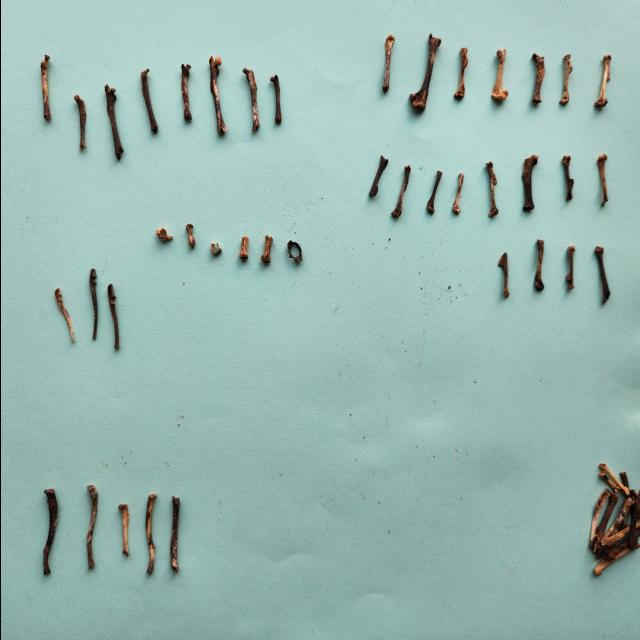fossil: (404, 31, 442, 121), (202, 50, 230, 138), (590, 534, 640, 580), (38, 485, 62, 579), (101, 78, 126, 166), (163, 489, 186, 579), (591, 488, 619, 556), (135, 64, 161, 137), (139, 488, 159, 578), (241, 63, 265, 138), (588, 240, 614, 308), (82, 477, 100, 574), (33, 48, 55, 126), (584, 485, 610, 551), (516, 147, 540, 217), (590, 52, 616, 116), (53, 282, 77, 346), (388, 160, 412, 224), (102, 277, 122, 353), (364, 149, 392, 202), (598, 528, 640, 563), (174, 56, 194, 128), (527, 46, 549, 110), (555, 49, 577, 112), (488, 44, 510, 106), (71, 89, 91, 157), (481, 158, 502, 222), (451, 41, 472, 105), (597, 519, 640, 550), (556, 150, 578, 210), (528, 230, 548, 296), (86, 262, 102, 344), (114, 497, 134, 561), (378, 30, 396, 98), (421, 168, 446, 216), (596, 462, 630, 496), (267, 66, 285, 130), (592, 146, 610, 210), (495, 244, 513, 302), (448, 164, 466, 222), (626, 481, 640, 554), (628, 485, 640, 556), (562, 242, 578, 294), (284, 232, 304, 266), (596, 468, 620, 494), (152, 220, 174, 248), (258, 231, 275, 267), (182, 218, 198, 252), (234, 231, 250, 264), (208, 236, 224, 260)
